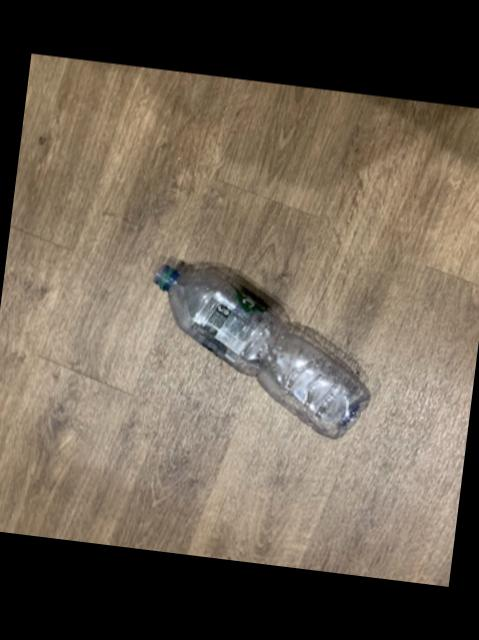plastic: (151, 263, 365, 436)
